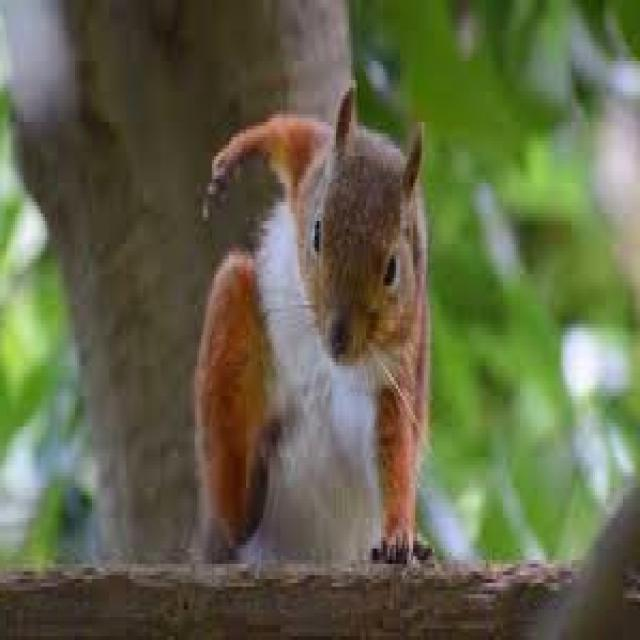squirrel: (197, 80, 430, 560)
